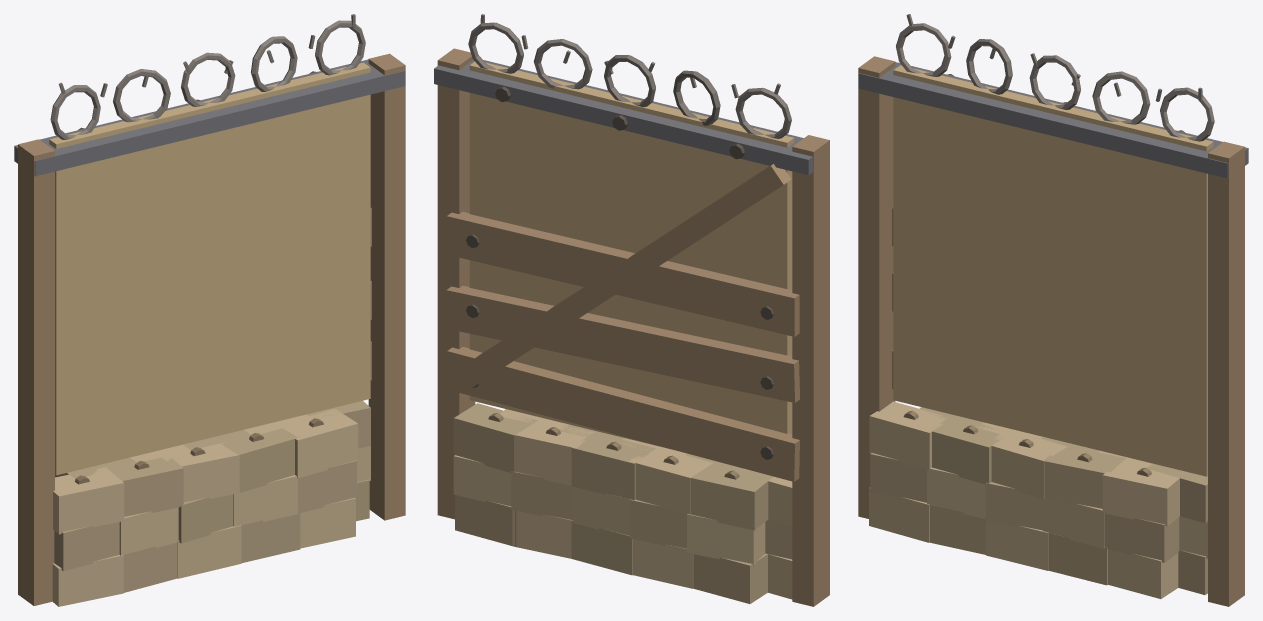
The model's file is blockade-hall.fbx.
The picture shows the model from 3 angles, left to right: view 1: azimuth 30°, elevation 25°; view 2: azimuth 150°, elevation 25°; view 3: azimuth 330°, elevation 25°; orthographic projection.
Parts seen in each view (by area): view 1: BlockadeHall; view 2: BlockadeHall; view 3: BlockadeHall.
Part boxes in pixels (box(x1,y1,x2,y2)): BlockadeHall: box(14, 14, 405, 606); BlockadeHall: box(434, 14, 829, 606); BlockadeHall: box(858, 14, 1248, 606).
Size of the model in its own units: 5.62 by 7.29 by 1.03.
